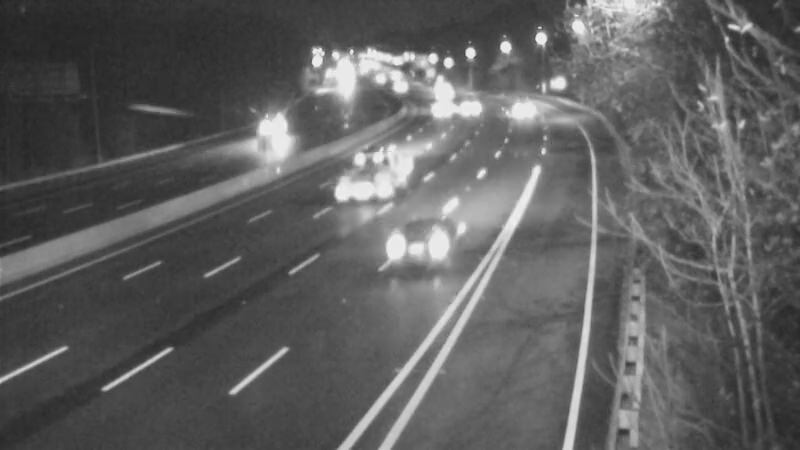vehicle: (329, 113, 409, 193), (328, 138, 408, 218), (370, 208, 450, 288), (410, 78, 460, 128), (438, 85, 488, 135), (496, 88, 546, 138), (256, 95, 306, 145)
